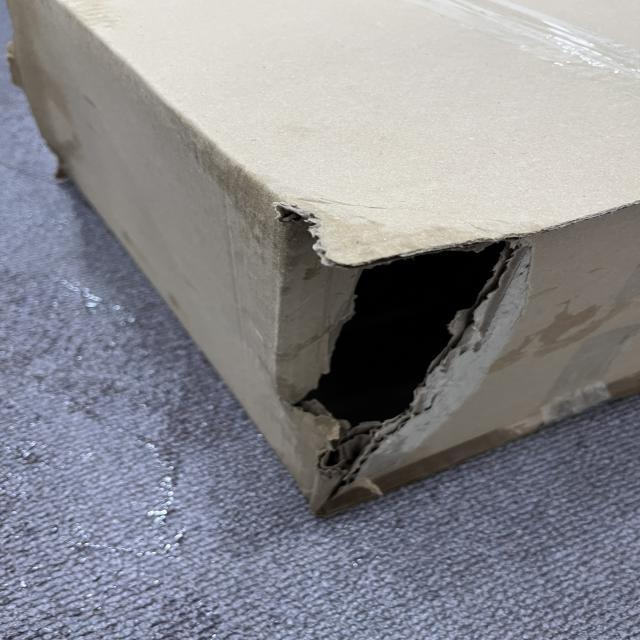hole: (265, 203, 521, 503)
